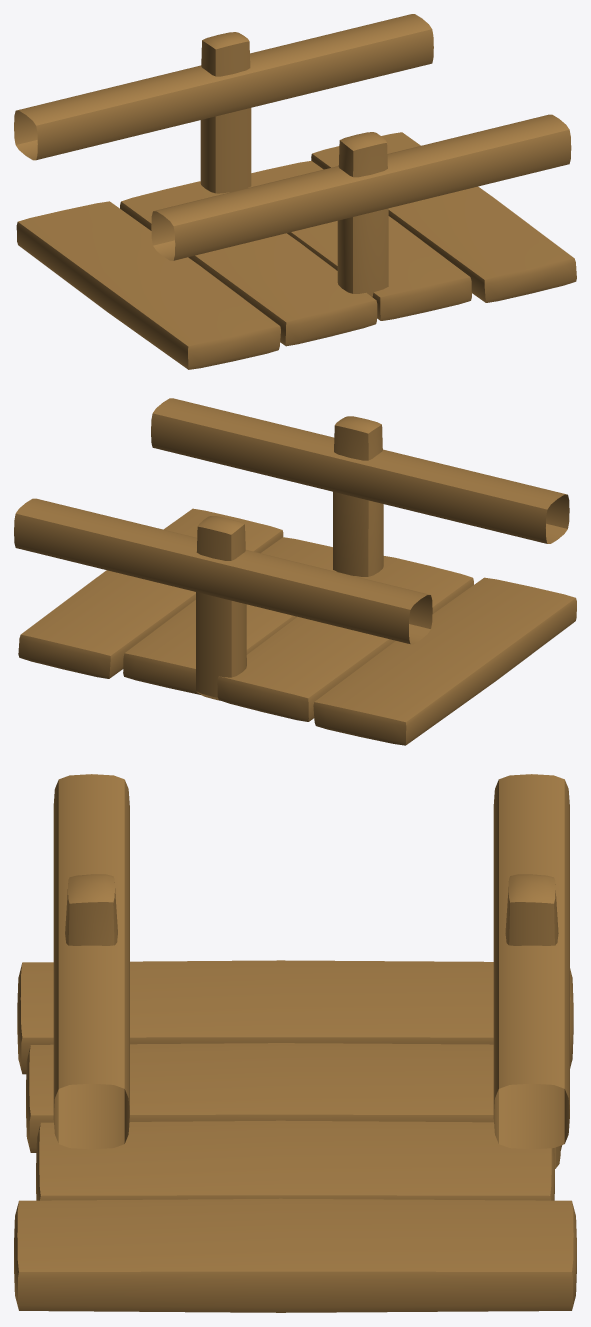
The model's file is Bridge_Modular_Center_No_Post.fbx.
3 views of the same model, one above another, from view 1: azimuth 30°, elevation 25°; view 2: azimuth 150°, elevation 25°; view 3: azimuth 270°, elevation 25° (orthographic). The views are drawn at different scales.
Parts seen in each view (by area): view 1: Bridge_Modular_Center; view 2: Bridge_Modular_Center; view 3: Bridge_Modular_Center.
Part boxes in pixels (<box>): Bridge_Modular_Center: <box>14,14,576,369</box>; Bridge_Modular_Center: <box>14,398,576,745</box>; Bridge_Modular_Center: <box>14,774,576,1312</box>.
Size of the model in its own units: 300 by 128 by 231.
